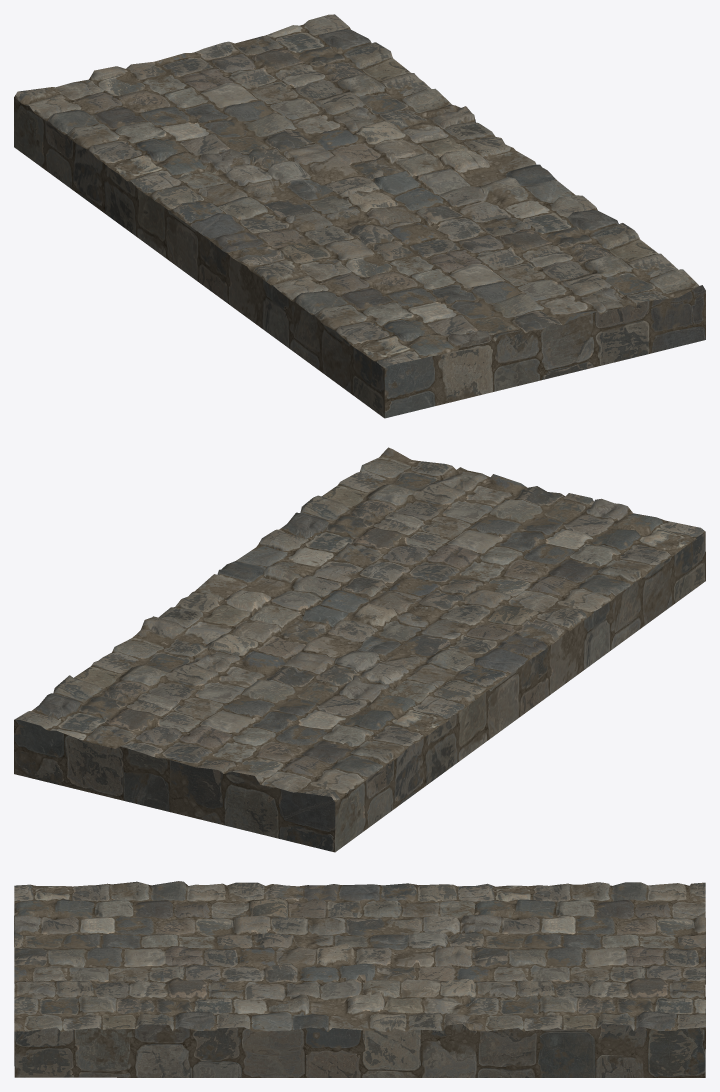
The model's file is SM_Walkway_3x6_01.fbx.
The picture shows the model from 3 angles, top to bottom: view 1: azimuth 30°, elevation 25°; view 2: azimuth 150°, elevation 25°; view 3: azimuth 270°, elevation 25°; orthographic projection. The views are drawn at different scales.
Parts seen in each view (by area): view 1: SM_Walkway_3x6_01_LOD0; view 2: SM_Walkway_3x6_01_LOD0; view 3: SM_Walkway_3x6_01_LOD0.
Boxes of the visible parts, x1=… form: SM_Walkway_3x6_01_LOD0: x1=14, y1=14, x2=705, y2=418; SM_Walkway_3x6_01_LOD0: x1=14, y1=447, x2=705, y2=852; SM_Walkway_3x6_01_LOD0: x1=14, y1=881, x2=705, y2=1077.
Size of the model in its own units: 301 by 601 by 53.51.
